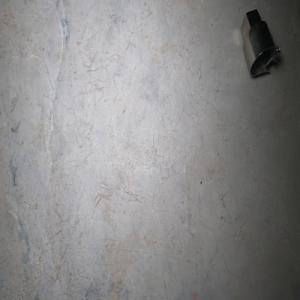MetalPart: (240, 8, 280, 77)
